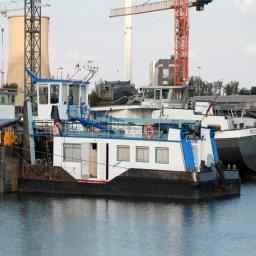tugboat: (17, 67, 243, 205)
